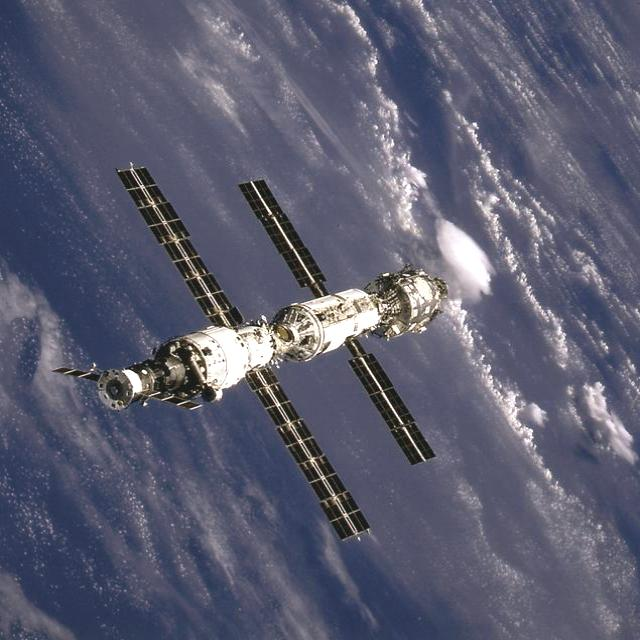satellite: (55, 166, 447, 539)
